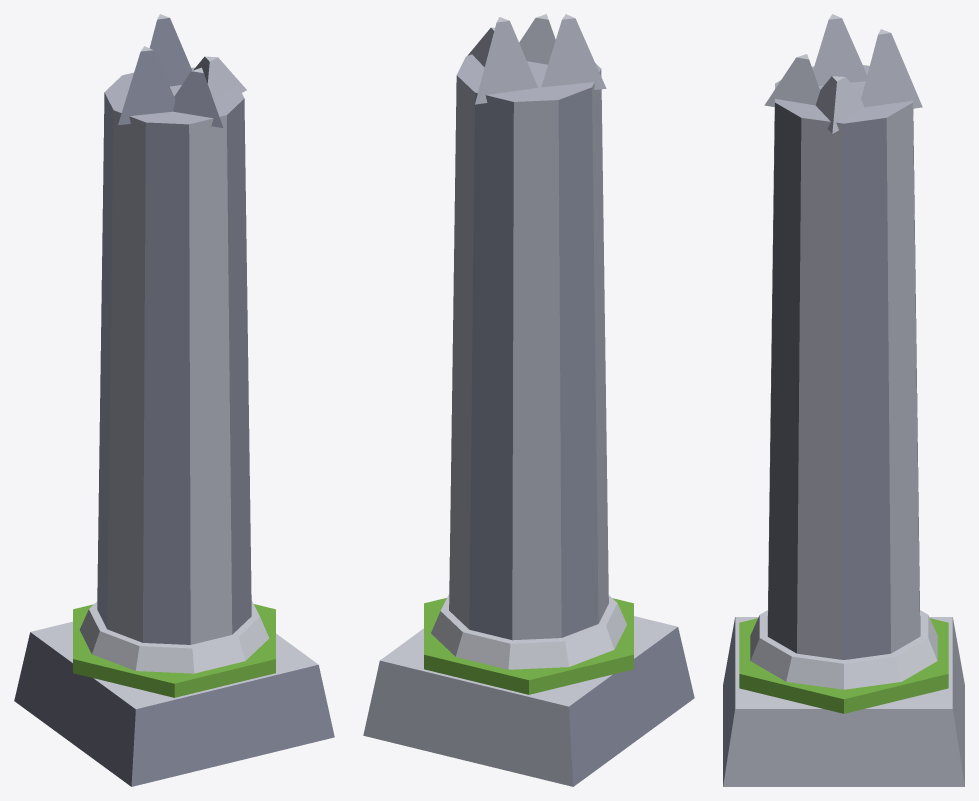
File: statue_column.glb
The picture shows the model from 3 angles, left to right: view 1: azimuth 30°, elevation 25°; view 2: azimuth 150°, elevation 25°; view 3: azimuth 270°, elevation 25°; orthographic projection. The views are drawn at different scales.
Parts seen in each view (by area): view 1: statue_column; view 2: statue_column; view 3: statue_column.
Boxes of the visible parts, x1,y1,x2,y2 form: statue_column: [14, 14, 334, 786]; statue_column: [363, 14, 694, 786]; statue_column: [723, 14, 964, 786].
Bounding box in the file's own units: 0.3 × 0.9681 × 0.3.
Materials: 1 (1 with a texture image).
